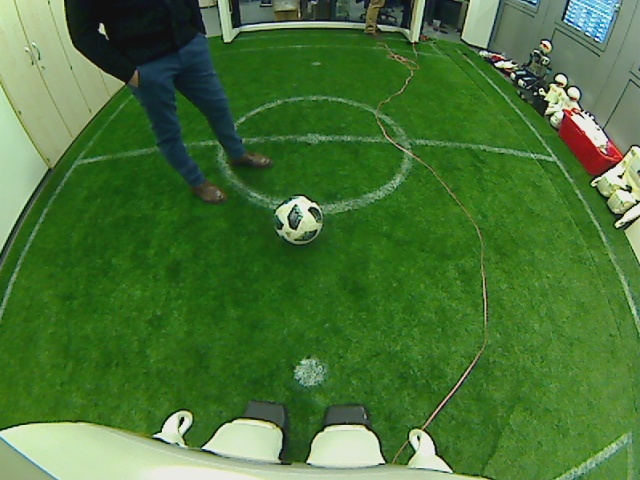ball: (273, 196, 324, 243)
